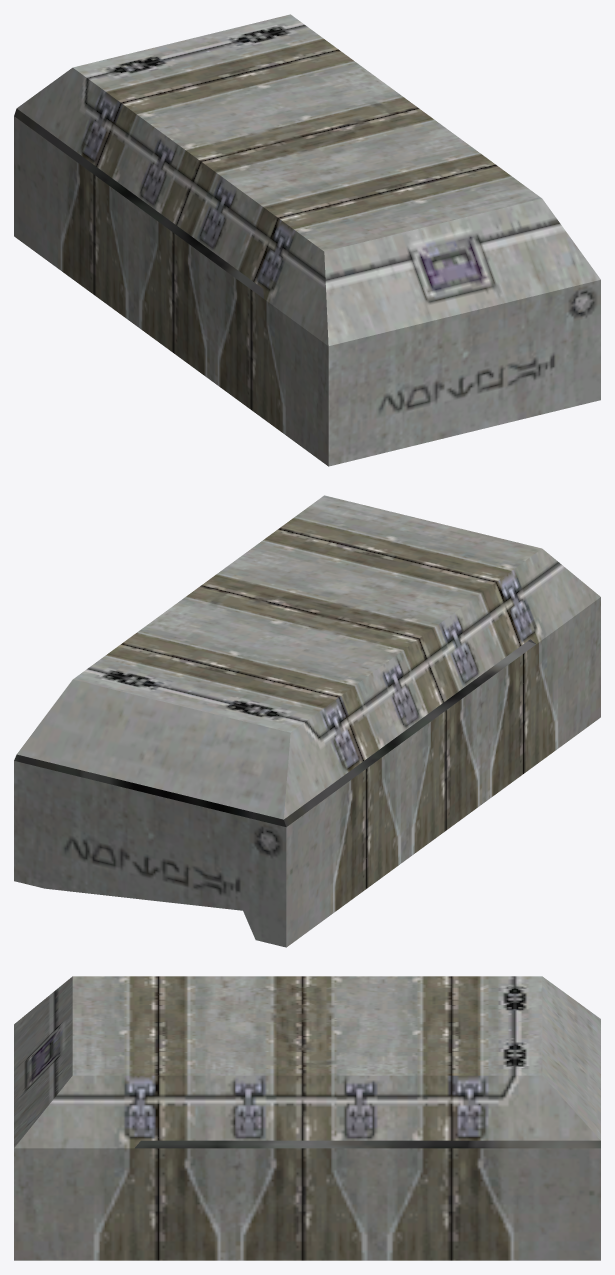
File: con_gen_inorganic_chemicals_l1.fbx
3 views of the same model, one above another, from view 1: azimuth 30°, elevation 25°; view 2: azimuth 150°, elevation 25°; view 3: azimuth 270°, elevation 25° (orthographic). The views are drawn at different scales.
Parts seen in each view (by area): view 1: mesh_node; view 2: mesh_node; view 3: mesh_node.
Boxes of the visible parts, x1,y1,x2,y2 form: mesh_node: (14, 14, 600, 466); mesh_node: (14, 495, 600, 947); mesh_node: (14, 976, 600, 1260).
Size of the model in its own units: 0.5421 by 0.3522 by 1.08.
